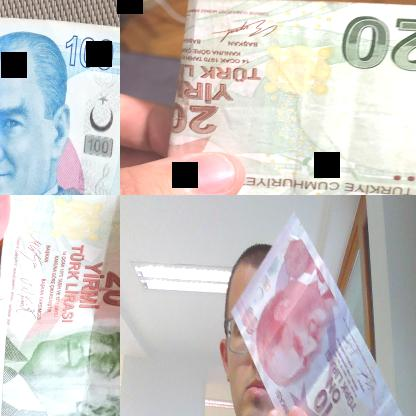5 TL: (0, 17, 119, 194)
